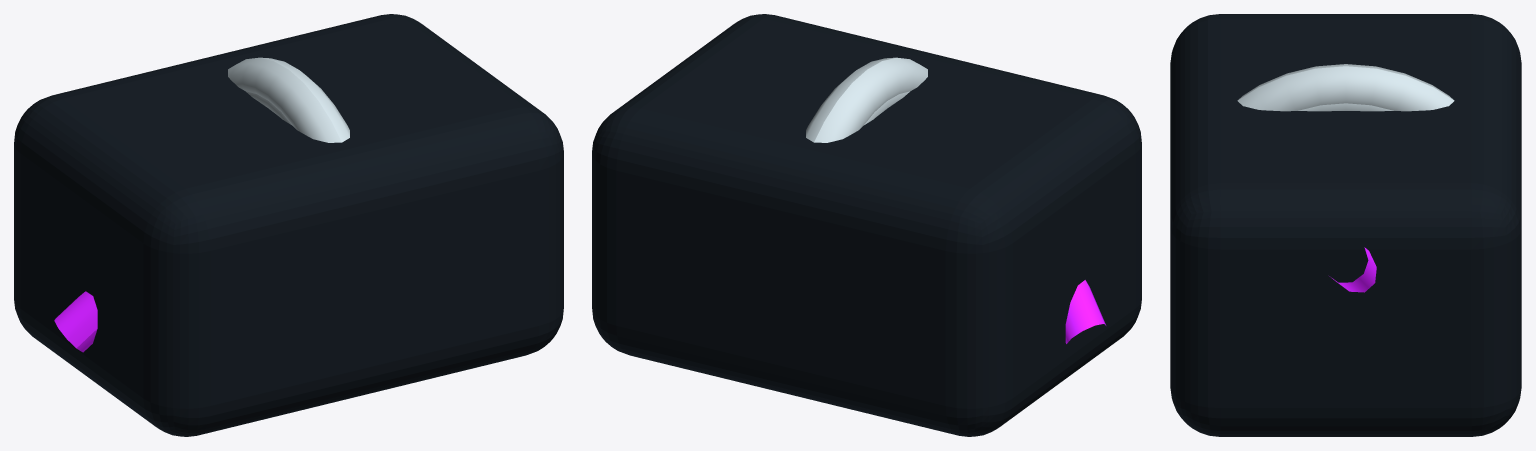
Rendered from electrical_08.glb.
3 views of the same model, side by side, from view 1: azimuth 30°, elevation 25°; view 2: azimuth 150°, elevation 25°; view 3: azimuth 270°, elevation 25° (orthographic). The views are drawn at different scales.
Visible parts, largest first — view 1: asset_mesh__electrical_0287__reference_body, asset_mesh__electrical_0302__functional_ring, asset_mesh__electrical_0326__current_path; view 2: asset_mesh__electrical_0287__reference_body, asset_mesh__electrical_0302__functional_ring, asset_mesh__electrical_0326__current_path; view 3: asset_mesh__electrical_0287__reference_body, asset_mesh__electrical_0302__functional_ring, asset_mesh__electrical_0326__current_path, asset_mesh__electrical_0283__functional_ring.
Boxes of the visible parts, x1,y1,x2,y2 form: asset_mesh__electrical_0287__reference_body: (14,14,563,436); asset_mesh__electrical_0302__functional_ring: (228,57,349,142); asset_mesh__electrical_0326__current_path: (54,291,97,352); asset_mesh__electrical_0287__reference_body: (592,14,1141,436); asset_mesh__electrical_0302__functional_ring: (806,57,927,142); asset_mesh__electrical_0326__current_path: (1065,280,1106,343); asset_mesh__electrical_0287__reference_body: (1170,14,1521,436); asset_mesh__electrical_0302__functional_ring: (1237,64,1454,111); asset_mesh__electrical_0326__current_path: (1329,247,1376,292); asset_mesh__electrical_0283__functional_ring: (1298,103,1393,111).
Bounding box in the file's own units: 1.21 × 0.7727 × 0.7728.
